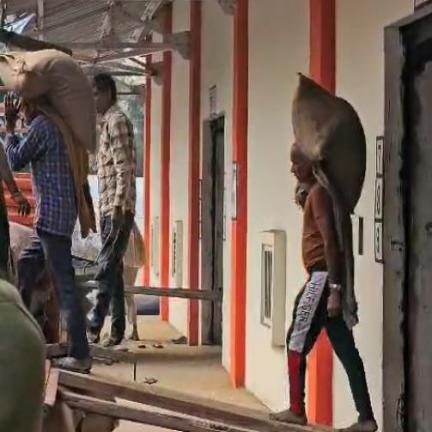Zone-Counting: (270, 74, 377, 431), (0, 49, 96, 372)
